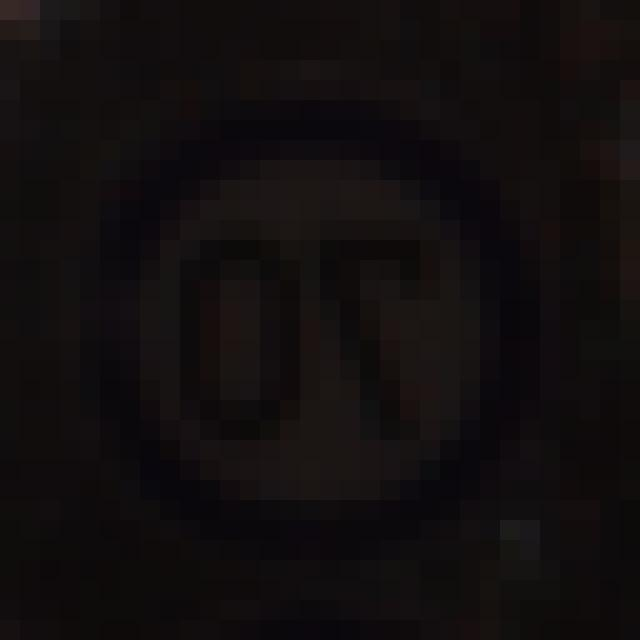SPEED LIMIT 70: (78, 113, 552, 542)
